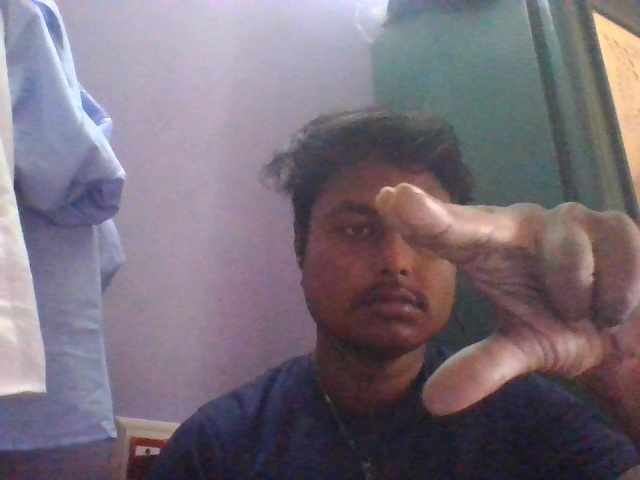no: (366, 152, 640, 418)
